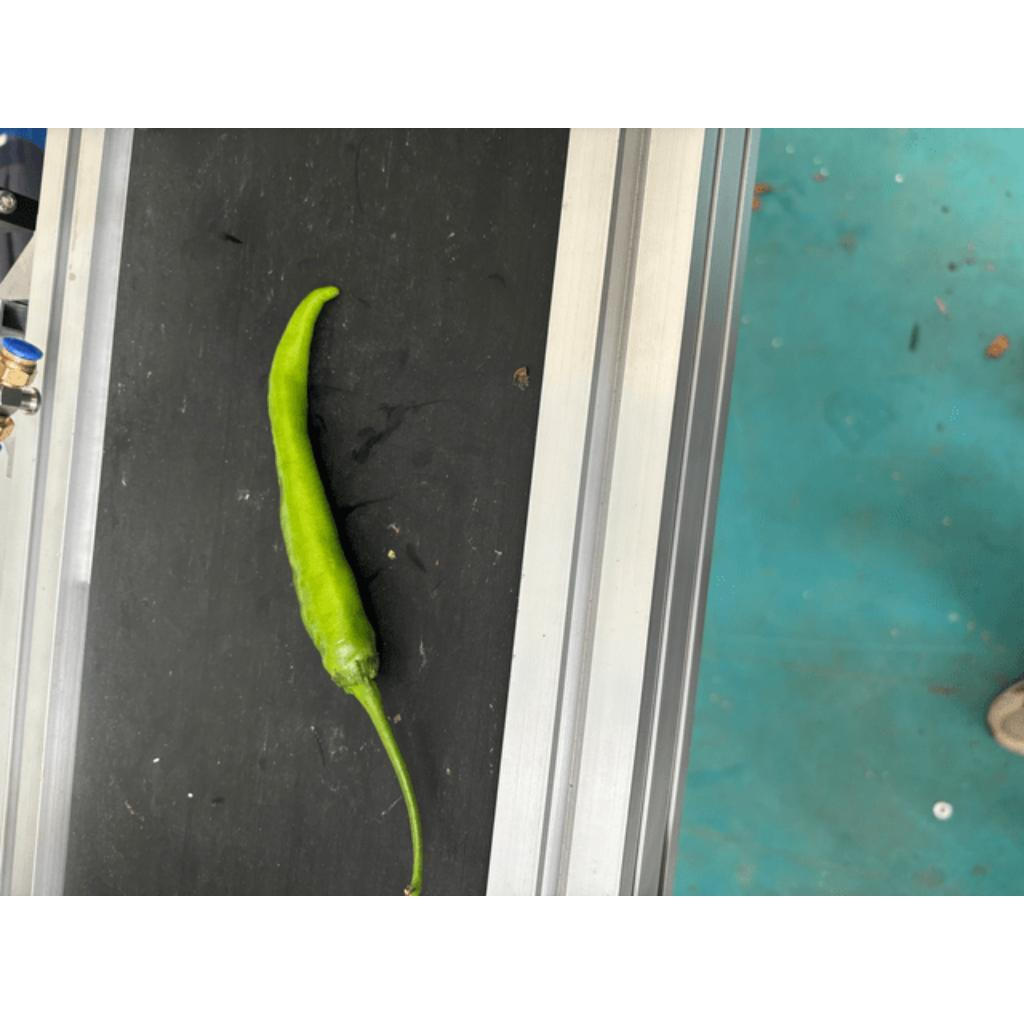chili: (263, 284, 381, 696)
